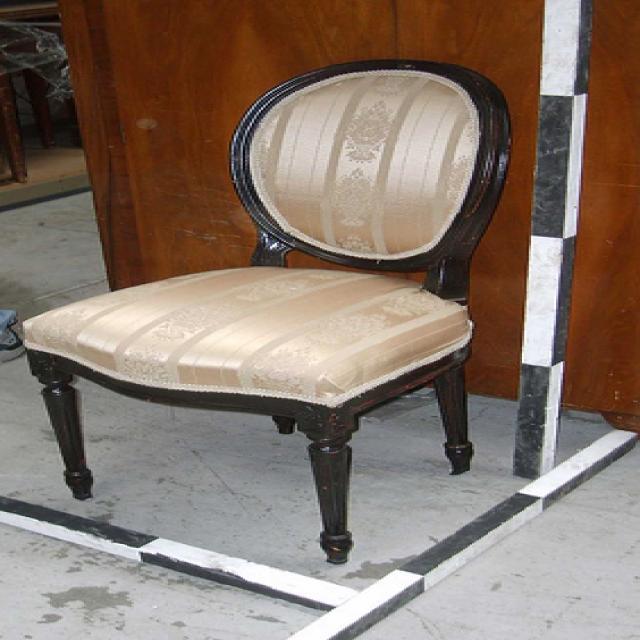chair: (21, 60, 511, 564)
